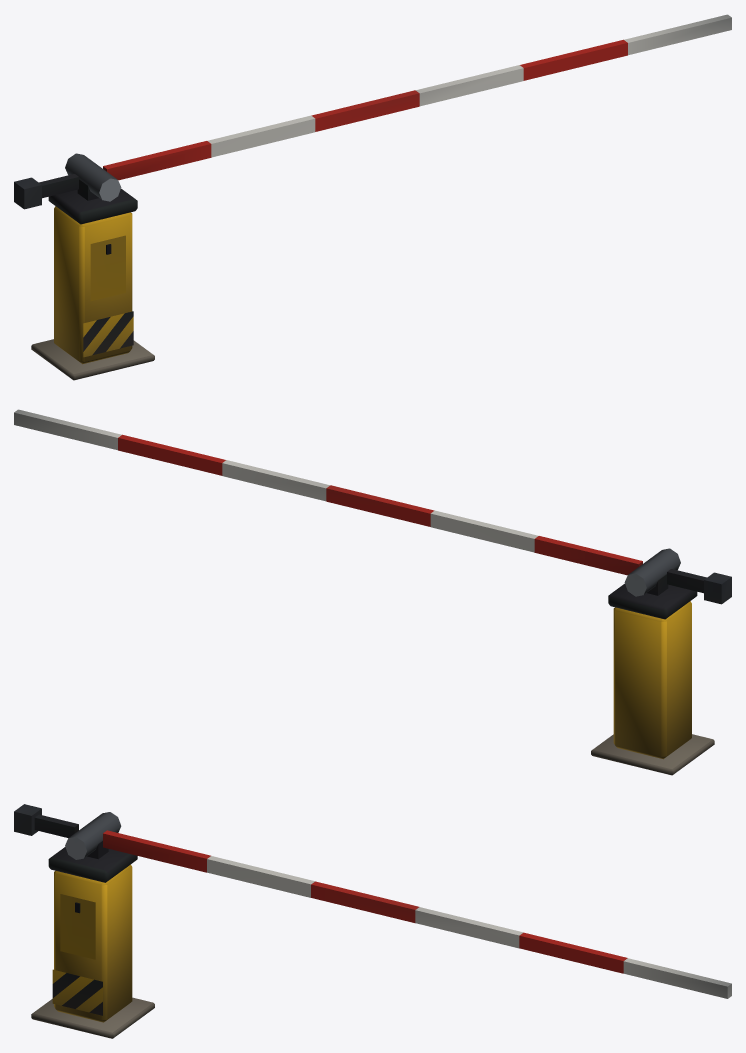
Rendered from parking_barrier.glb.
3 views of the same model, one above another, from view 1: azimuth 30°, elevation 25°; view 2: azimuth 150°, elevation 25°; view 3: azimuth 330°, elevation 25° (orthographic).
Parts seen in each view (by area): view 1: ParkingBarrier; view 2: ParkingBarrier; view 3: ParkingBarrier.
Boxes of the visible parts, bbox=[...] form: ParkingBarrier: bbox=[14, 14, 731, 380]; ParkingBarrier: bbox=[14, 409, 731, 775]; ParkingBarrier: bbox=[14, 804, 731, 1038].
Size of the model in its own units: 4.8 by 1.23 by 0.5.
